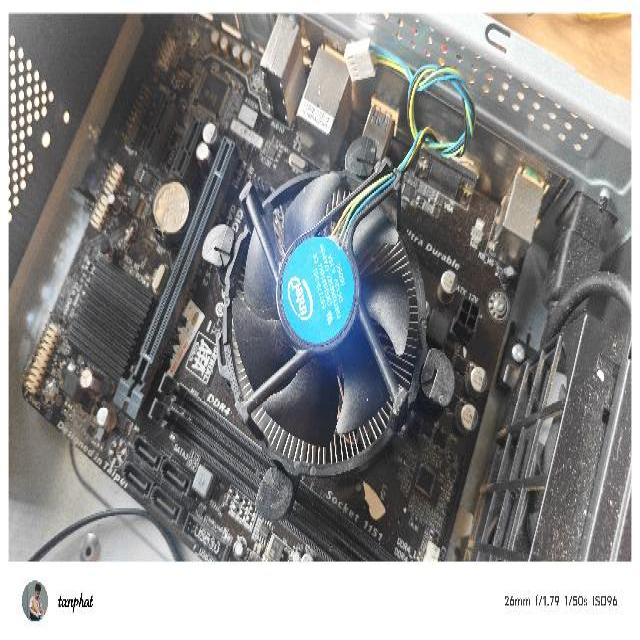CPU_Fan: (202, 131, 456, 523)
Mainboard: (19, 17, 516, 563)
